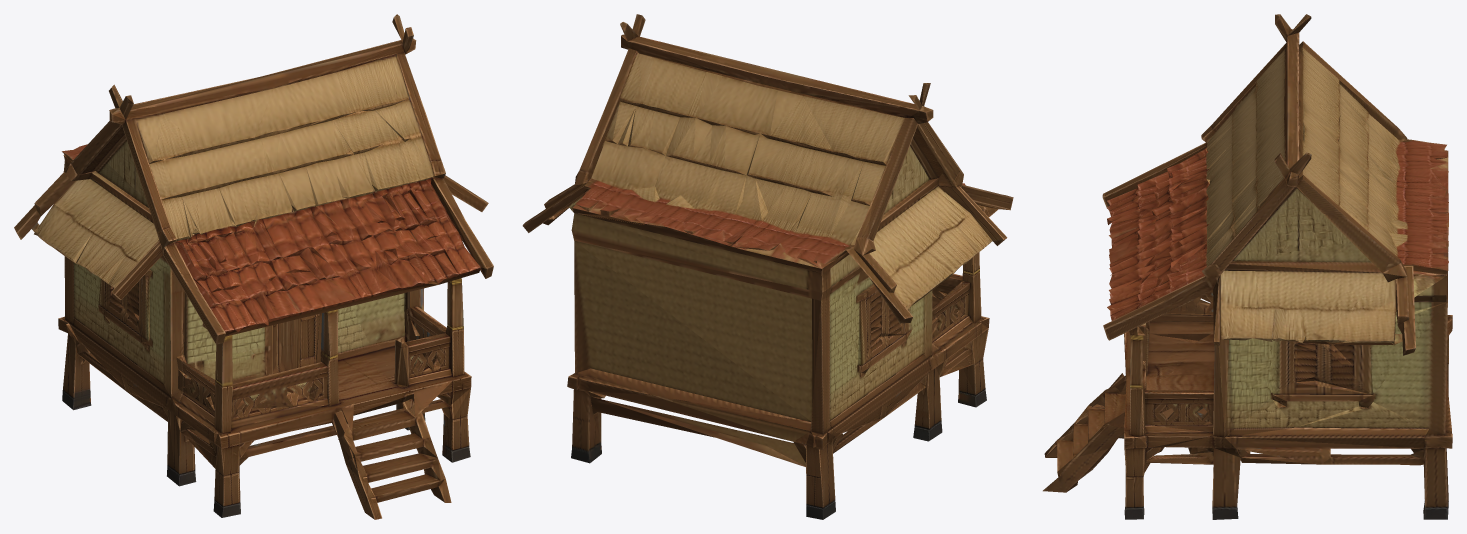
File: RumahPanggung.glb
The picture shows the model from 3 angles, left to right: view 1: azimuth 30°, elevation 25°; view 2: azimuth 150°, elevation 25°; view 3: azimuth 270°, elevation 25°; orthographic projection. The views are drawn at different scales.
Visible parts, largest first — view 1: Mesh_0; view 2: Mesh_0; view 3: Mesh_0.
Boxes of the visible parts, box(x1,y1,x2,y2) form: Mesh_0: box(14, 14, 493, 519); Mesh_0: box(522, 14, 1013, 519); Mesh_0: box(1043, 14, 1452, 519).
Bounding box in the file's own units: 1.9 × 1.78 × 1.77.
1 material, 1 textured.
